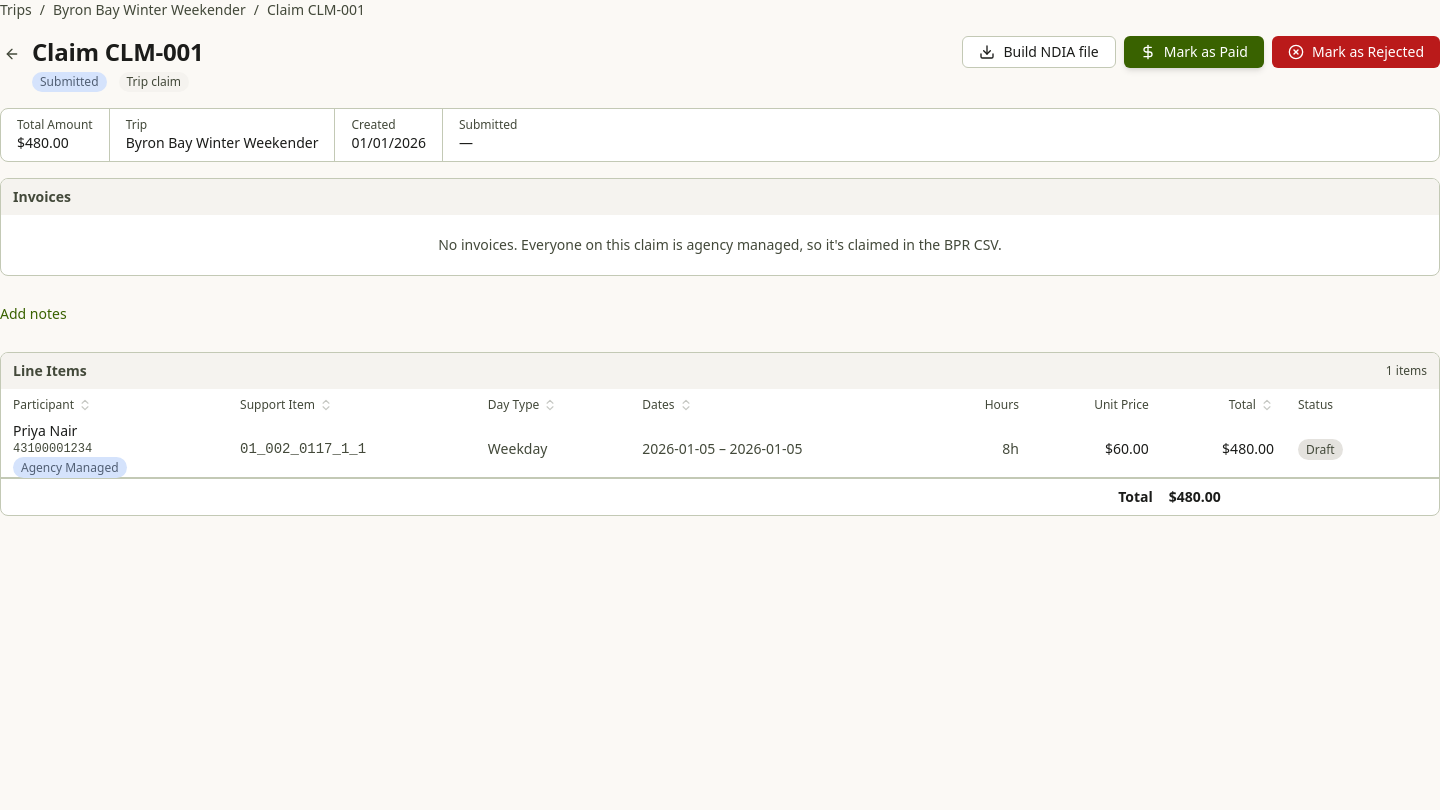
it: ClaimDetailPage — Mark as Rejected asks for the NDIA code › closes the dialog when the claim is rejected, and keeps it open, saying why, when the server refuses
Step 1. Click the button "Mark as Rejected" → (1356, 52), box [1272,36,1439,68]
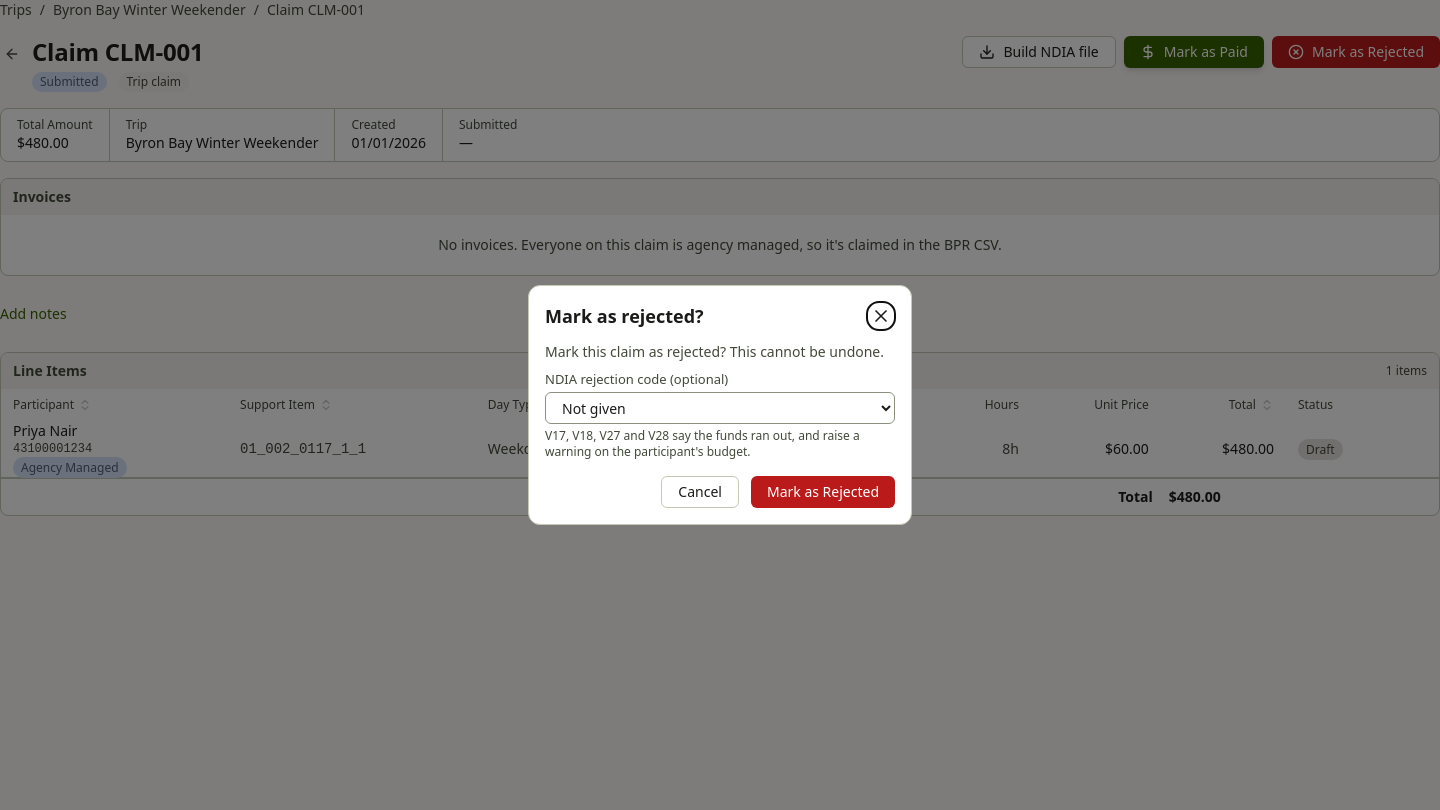
Step 2. Click the button "Mark as Rejected" → (823, 492), box [751,476,895,508]
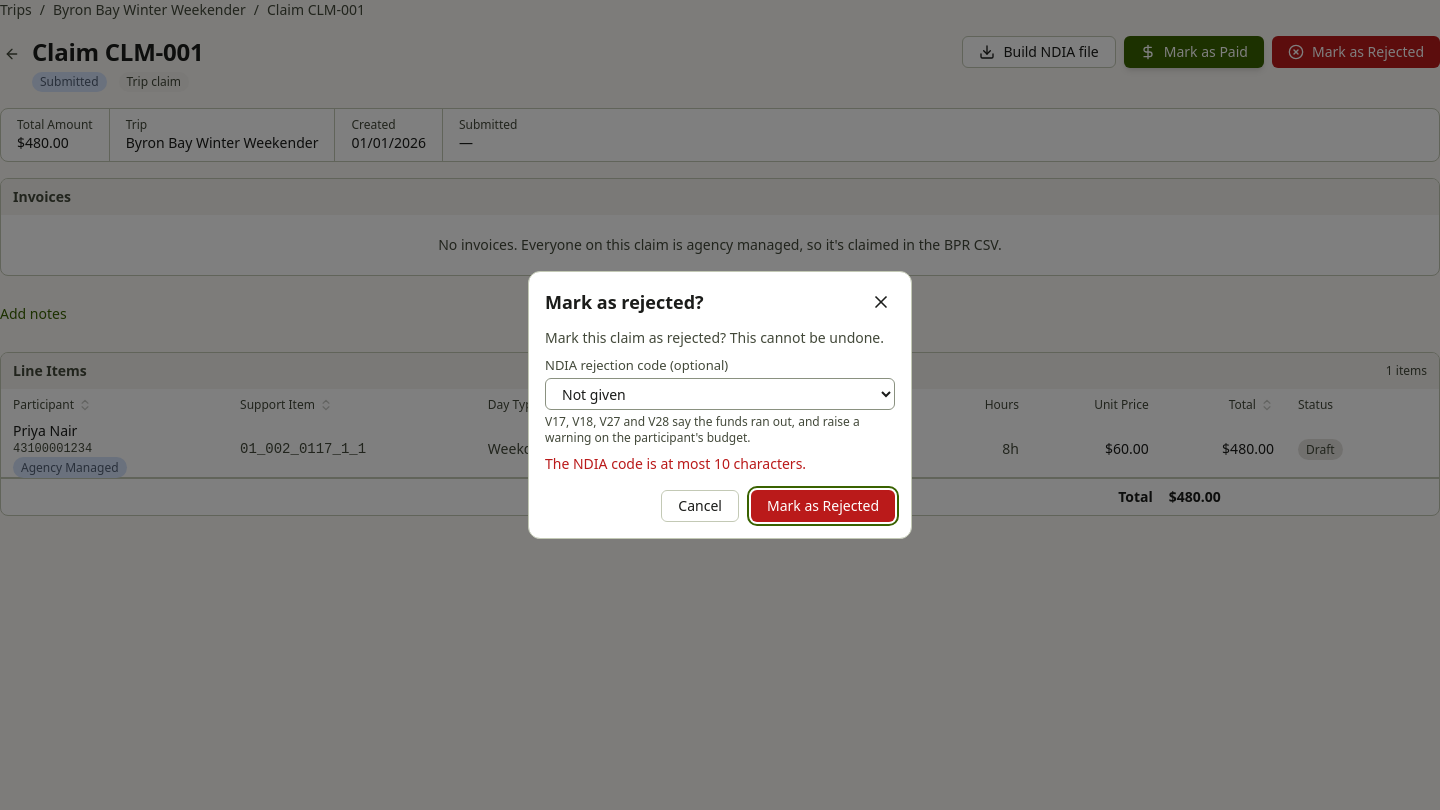
Result: the message reads "The NDIA code is at most 10 characters." at [545,454,806,473]
Step 3. Click the button "Mark as Rejected" → (823, 506), box [751,490,895,522]
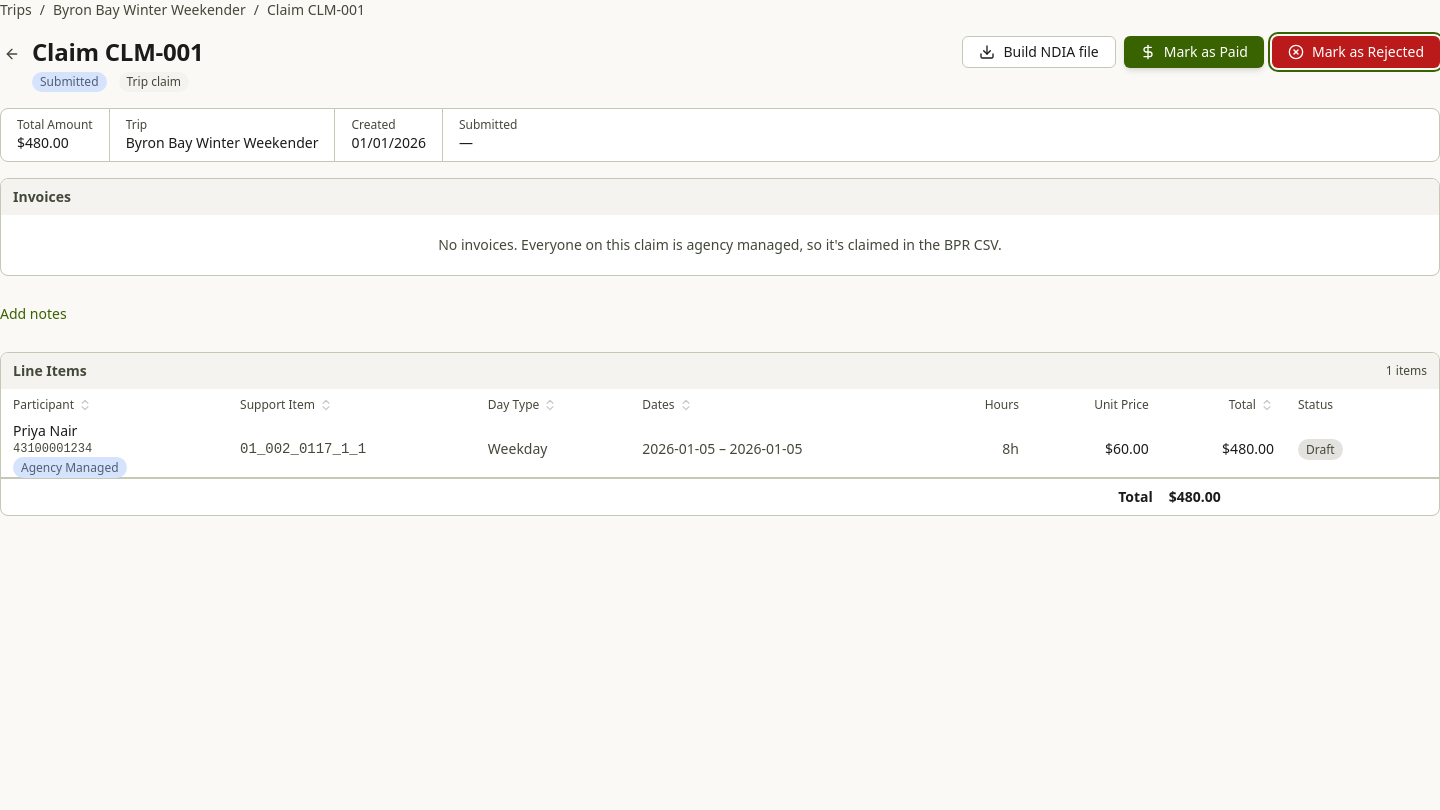
Result: the dialog is gone
